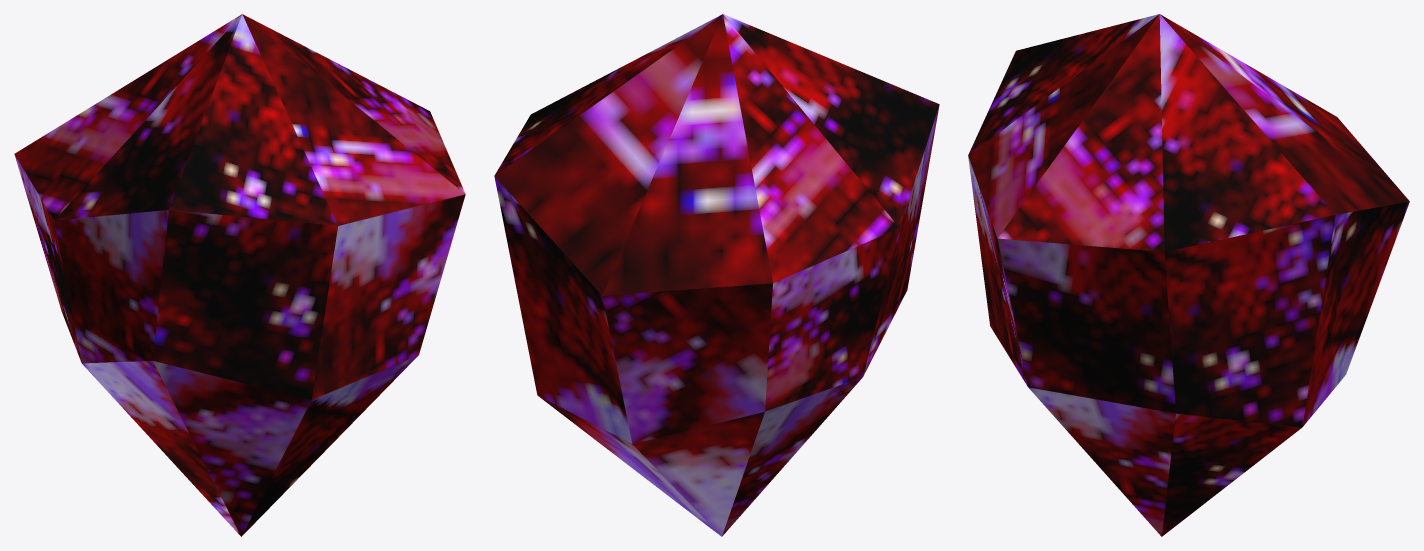
The model's file is gem.fbx.
3 views of the same model, side by side, from view 1: azimuth 30°, elevation 25°; view 2: azimuth 150°, elevation 25°; view 3: azimuth 270°, elevation 25° (orthographic).
Parts seen in each view (by area): view 1: gem; view 2: gem; view 3: gem.
Part boxes in pixels (x1,y1,x2,y2): gem: (14, 14, 465, 536); gem: (494, 14, 939, 536); gem: (968, 14, 1409, 536).
Bounding box in the file's own units: 0.7434 × 0.9976 × 0.7639.
